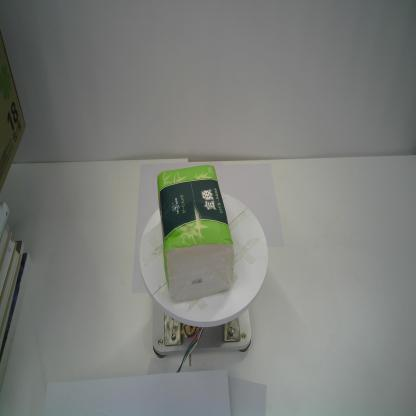Tissue: (156, 162, 235, 305)
